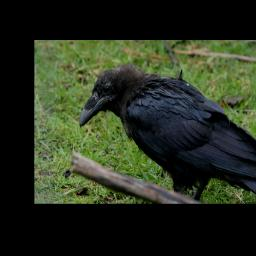Crow: (77, 64, 256, 203)
